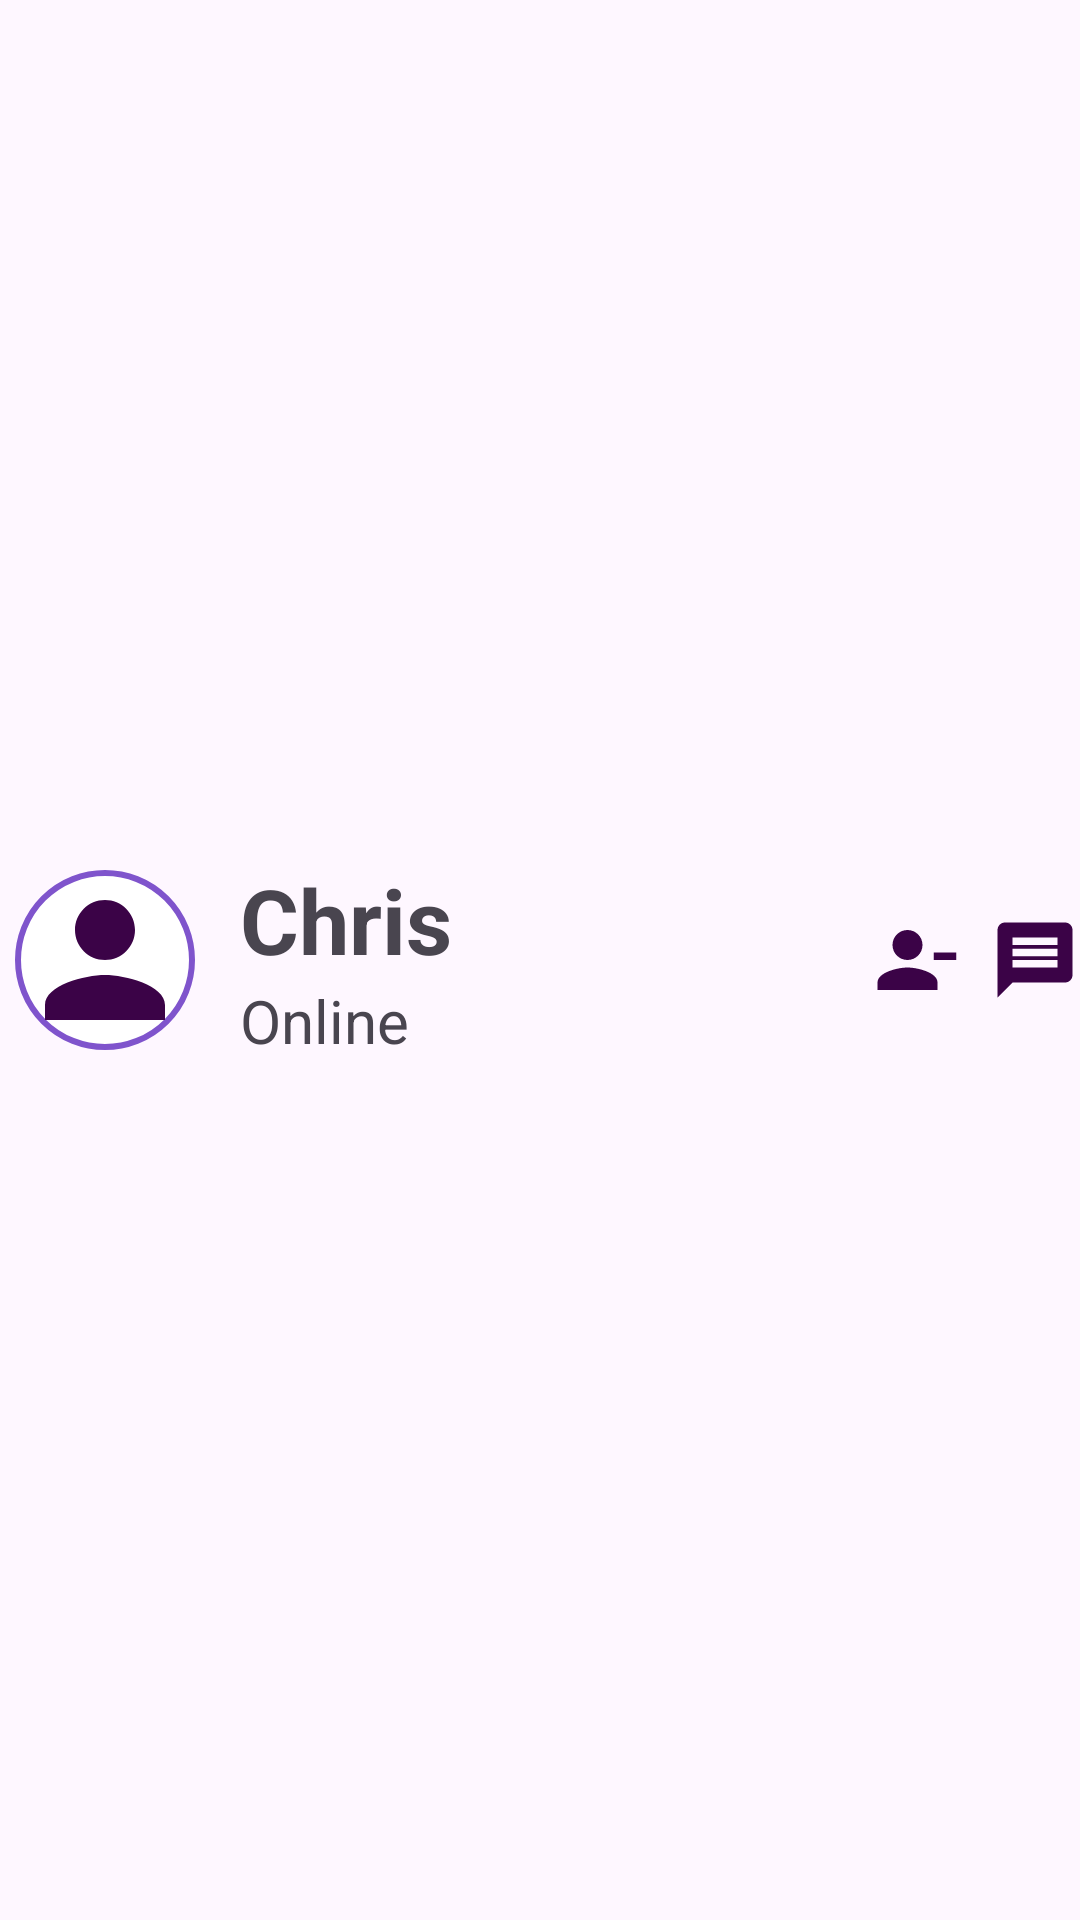

Where to tap for icons on this 1080px x 1920px app screen, as point (x, y):
user profile icon: point (105, 960)
